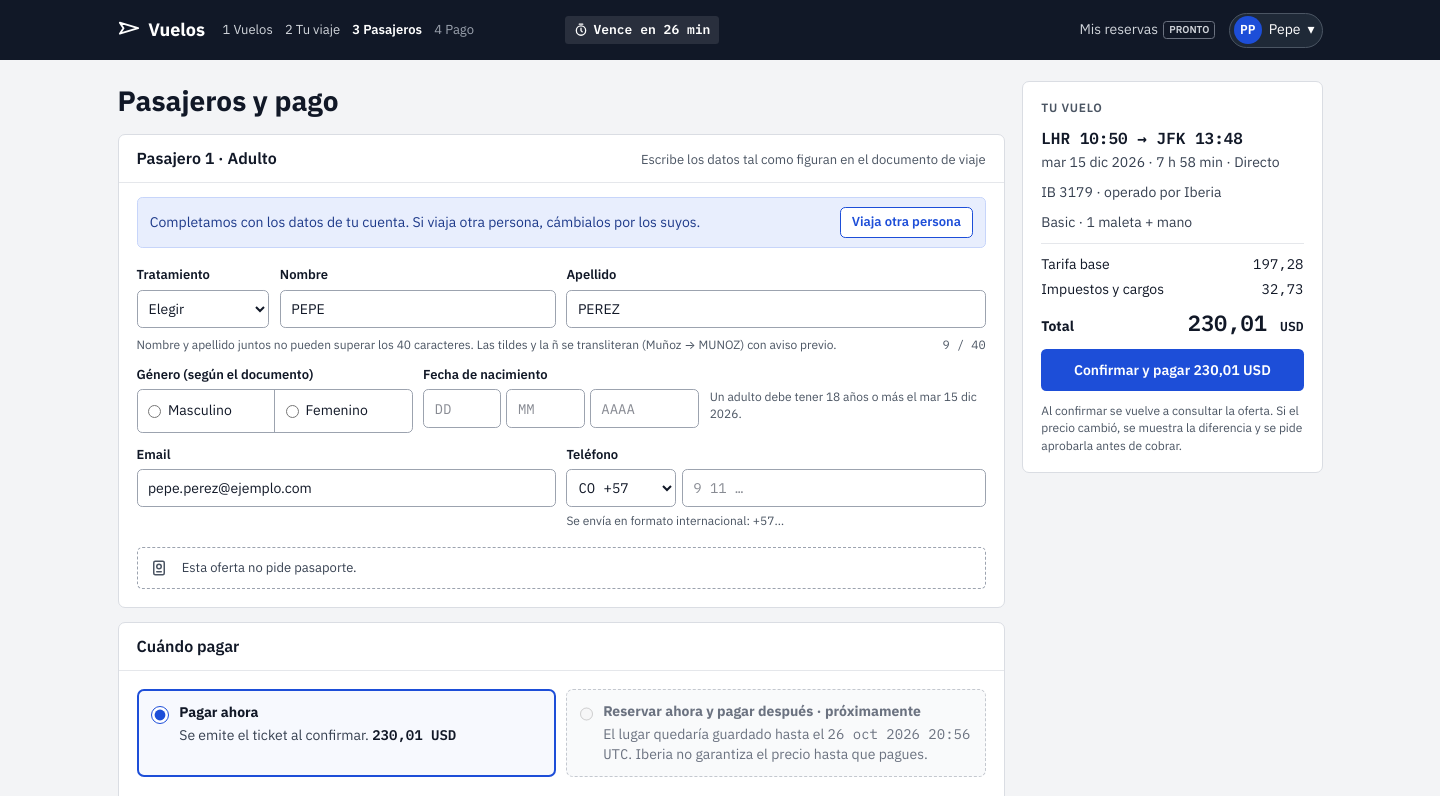
Test: passengers and payment › shows every problem before sending anything
Check: the heading "Pasajeros y pago" is shown, box [118,82,338,119]
Click the button "Viaja otra persona": (906, 223) [840,207,972,238]
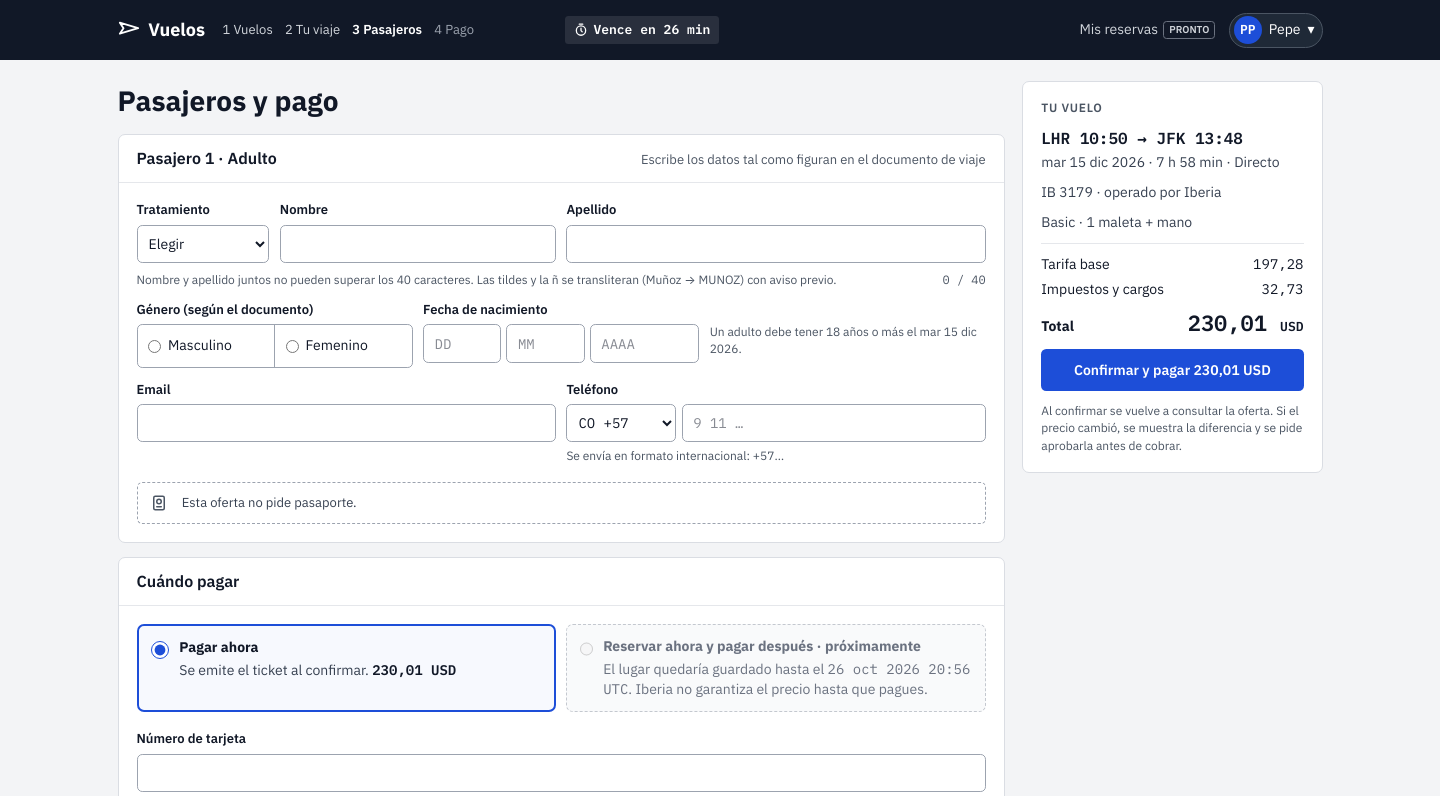
Click the button "Confirmar y pagar 230,01 USD": (1172, 370) [1041,350,1304,392]
(page scrolled)
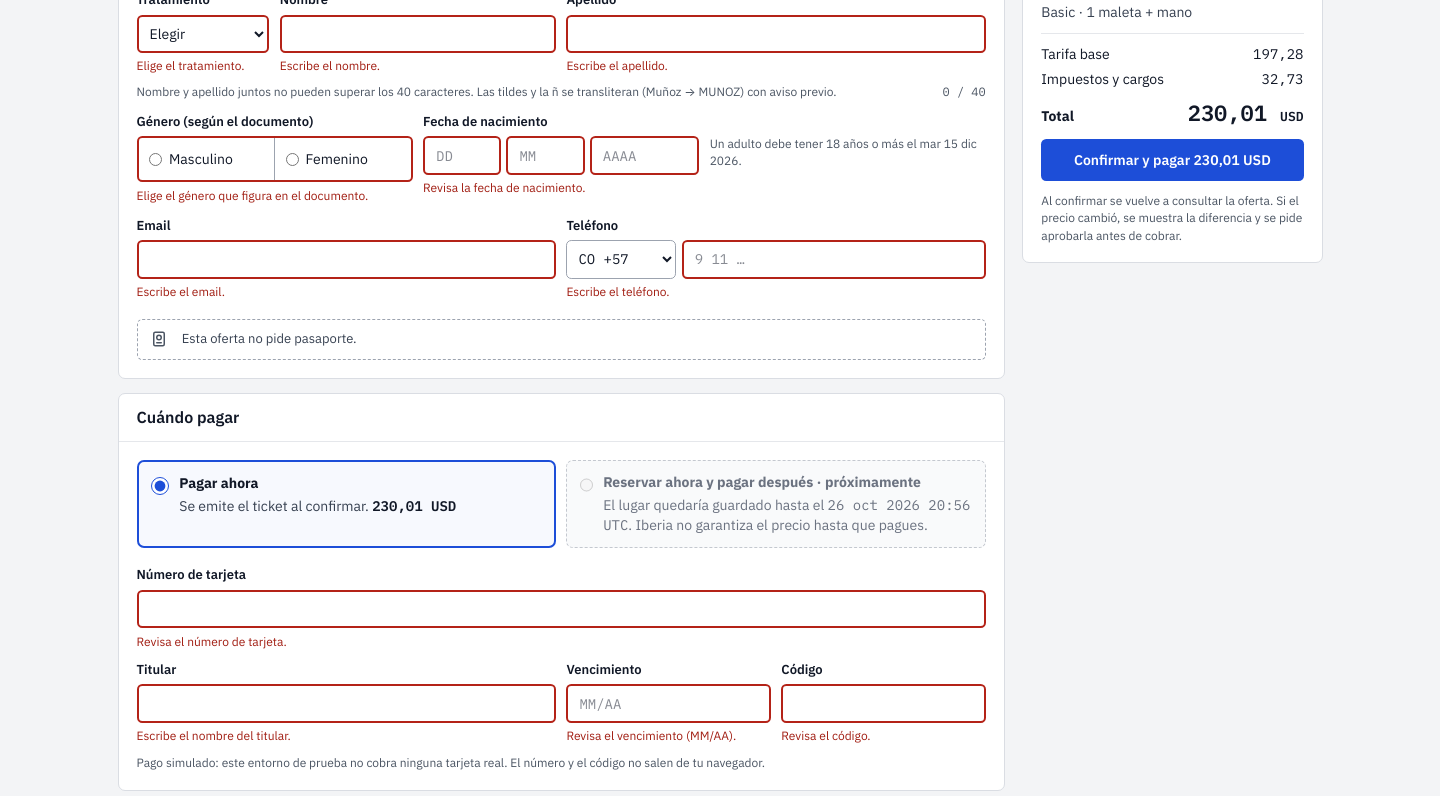
Check: the text "Elige el tratamiento." is shown, box [136,58,244,73]
Check: the text "Escribe el apellido." is shown, box [566,58,668,73]
Check: the text "Revisa la fecha de nacimiento." is shown, box [423,180,586,195]
